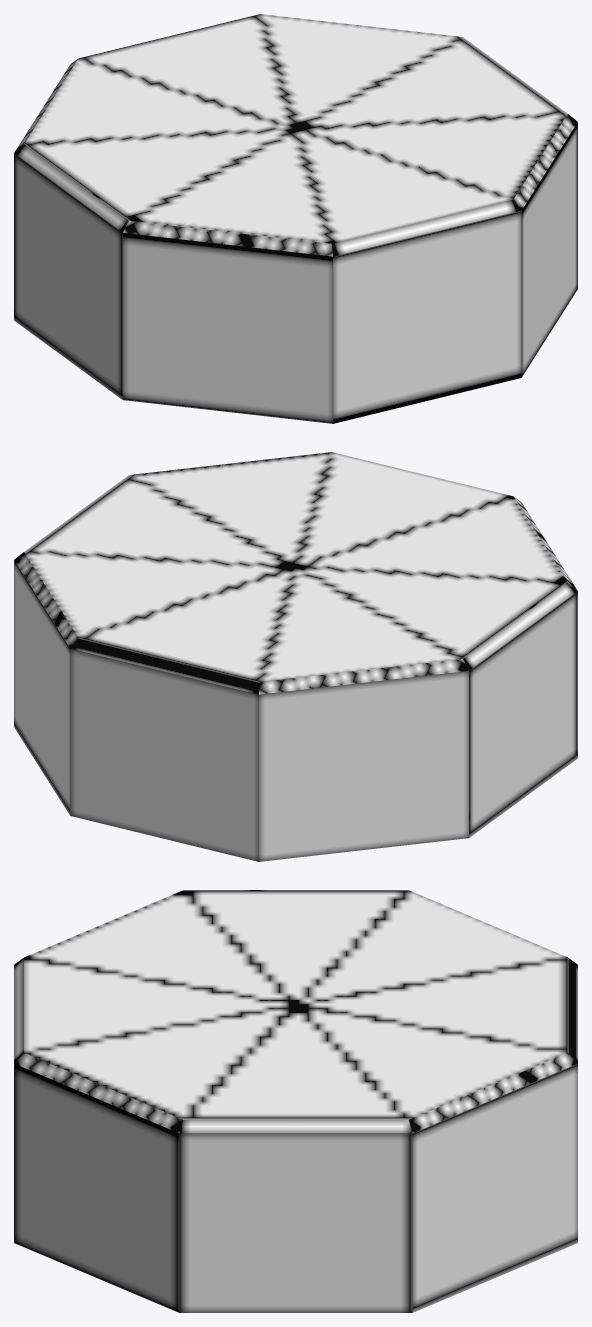
Rendered from Acamar_Lab_2_Interior.obj.
3 renders of one model, top to bottom at view 1: azimuth 30°, elevation 25°; view 2: azimuth 150°, elevation 25°; view 3: azimuth 270°, elevation 25°, orthographic. The views are drawn at different scales.
Parts seen in each view (by area): view 1: Acamar_Lab_2_Interior; view 2: Acamar_Lab_2_Interior; view 3: Acamar_Lab_2_Interior.
Boxes of the visible parts, x1,y1,x2,y2 form: Acamar_Lab_2_Interior: (14, 14, 577, 423); Acamar_Lab_2_Interior: (14, 452, 577, 861); Acamar_Lab_2_Interior: (14, 890, 577, 1312).
Size of the model in its own units: 2.1 by 0.775 by 2.1.
1 material, 1 textured.
